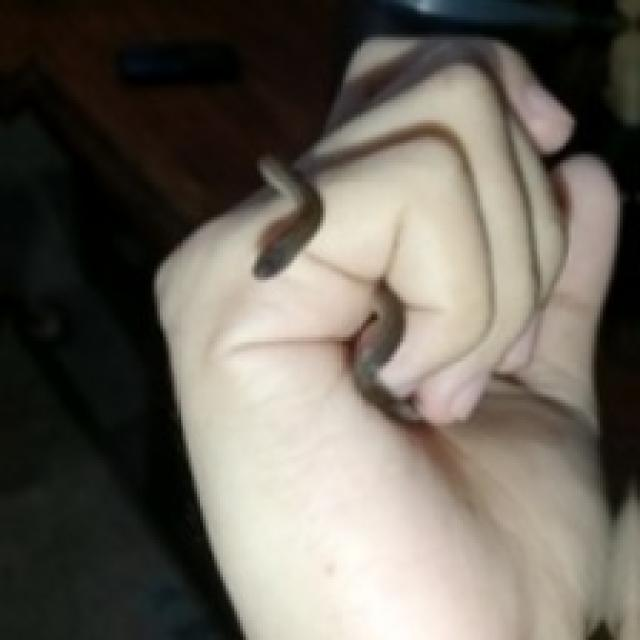gervais worm snake: (354, 279, 418, 422), (252, 155, 324, 278)
